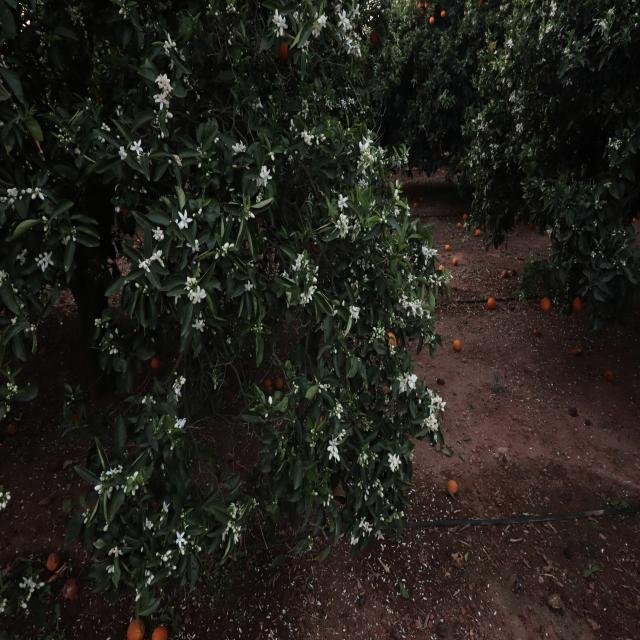Bunga: (192, 285, 207, 304), (178, 209, 192, 229), (150, 250, 165, 268), (276, 14, 288, 36), (260, 167, 272, 186), (156, 92, 170, 108), (42, 251, 54, 269), (338, 10, 349, 28), (130, 140, 144, 154), (186, 239, 200, 253), (159, 75, 171, 91), (184, 276, 197, 290), (318, 12, 328, 30), (338, 193, 348, 211), (176, 530, 186, 548), (166, 32, 176, 49), (35, 187, 47, 201), (22, 576, 36, 588), (35, 256, 45, 271), (192, 320, 204, 332), (174, 416, 186, 428), (152, 226, 163, 239), (302, 132, 312, 146), (359, 141, 369, 154), (272, 8, 280, 24), (394, 454, 402, 470), (119, 146, 128, 160), (144, 516, 153, 530), (231, 502, 238, 520), (388, 453, 396, 468), (0, 268, 10, 280), (330, 438, 338, 452), (428, 398, 436, 412), (7, 188, 18, 198), (244, 280, 253, 292), (26, 588, 35, 600), (232, 142, 240, 155), (174, 388, 182, 401), (164, 549, 172, 562), (408, 375, 416, 388), (142, 264, 152, 274), (364, 136, 374, 146), (113, 548, 123, 558), (94, 484, 104, 494), (0, 598, 7, 612), (307, 286, 314, 300), (238, 140, 246, 152), (106, 468, 118, 476), (300, 292, 308, 304), (399, 378, 406, 391), (163, 40, 169, 55), (172, 379, 181, 389), (162, 502, 170, 513), (434, 397, 442, 408), (426, 417, 434, 428), (132, 484, 139, 496), (349, 306, 356, 318), (102, 122, 110, 132), (82, 508, 90, 518), (0, 500, 8, 510), (394, 208, 402, 218), (336, 228, 344, 238), (424, 249, 432, 259), (406, 272, 414, 282), (312, 27, 320, 37), (351, 536, 359, 546), (376, 530, 384, 540), (346, 35, 352, 48), (328, 448, 334, 461), (147, 571, 154, 582), (336, 402, 343, 413), (138, 259, 146, 268), (222, 242, 230, 251), (292, 382, 298, 394), (106, 565, 114, 574), (108, 486, 114, 498), (100, 472, 108, 481), (344, 222, 349, 236), (409, 301, 416, 311), (334, 452, 341, 462), (440, 402, 447, 412), (119, 8, 126, 18), (168, 59, 174, 70), (353, 8, 359, 19), (334, 4, 340, 15), (302, 107, 308, 118), (366, 525, 372, 536), (379, 487, 385, 498), (222, 529, 227, 542), (109, 348, 117, 356), (131, 472, 138, 481), (379, 326, 386, 335), (269, 151, 275, 161), (234, 533, 239, 545), (295, 260, 301, 270), (417, 298, 423, 308), (432, 422, 438, 432), (165, 110, 172, 118), (339, 214, 346, 222), (180, 376, 187, 384), (20, 600, 27, 608), (37, 582, 44, 590), (121, 484, 128, 492), (136, 588, 140, 602), (358, 178, 365, 186), (426, 388, 434, 395), (188, 290, 193, 301), (6, 491, 12, 500), (510, 94, 516, 103), (390, 346, 395, 356), (233, 526, 240, 533), (156, 76, 162, 84), (144, 258, 150, 266), (256, 103, 264, 109), (248, 211, 254, 219), (214, 252, 220, 260), (150, 396, 156, 404), (108, 548, 114, 556), (516, 124, 522, 132), (394, 188, 398, 200), (354, 227, 360, 235), (298, 253, 304, 261), (432, 248, 438, 256), (368, 154, 374, 162), (356, 161, 362, 169), (320, 134, 326, 142), (360, 522, 366, 530), (228, 522, 234, 530), (374, 478, 380, 486), (364, 489, 368, 501), (362, 516, 368, 524), (370, 332, 375, 341), (356, 308, 359, 322), (401, 297, 407, 304), (357, 49, 362, 57), (142, 396, 147, 404), (268, 396, 272, 406), (84, 516, 89, 524), (104, 522, 108, 532), (354, 220, 359, 228), (438, 276, 442, 286), (341, 100, 346, 108), (354, 42, 359, 50), (378, 146, 383, 154), (306, 272, 310, 281), (312, 277, 318, 283), (304, 40, 308, 49), (302, 100, 308, 106), (316, 135, 320, 144), (508, 41, 513, 48), (325, 98, 330, 105), (379, 514, 384, 521), (352, 232, 356, 240), (336, 220, 340, 228), (95, 318, 99, 326), (119, 464, 122, 474), (27, 188, 33, 193), (362, 162, 367, 168), (32, 193, 36, 200), (364, 275, 368, 282), (362, 168, 366, 175), (376, 334, 381, 339), (478, 114, 482, 120), (291, 264, 295, 270), (290, 120, 294, 126), (337, 413, 341, 419), (0, 492, 3, 498), (373, 326, 376, 332), (39, 254, 43, 258), (398, 299, 402, 303), (472, 118, 474, 124), (430, 276, 432, 282)
Jeruk Sudah Matang: (279, 42, 288, 59), (388, 333, 396, 348)
